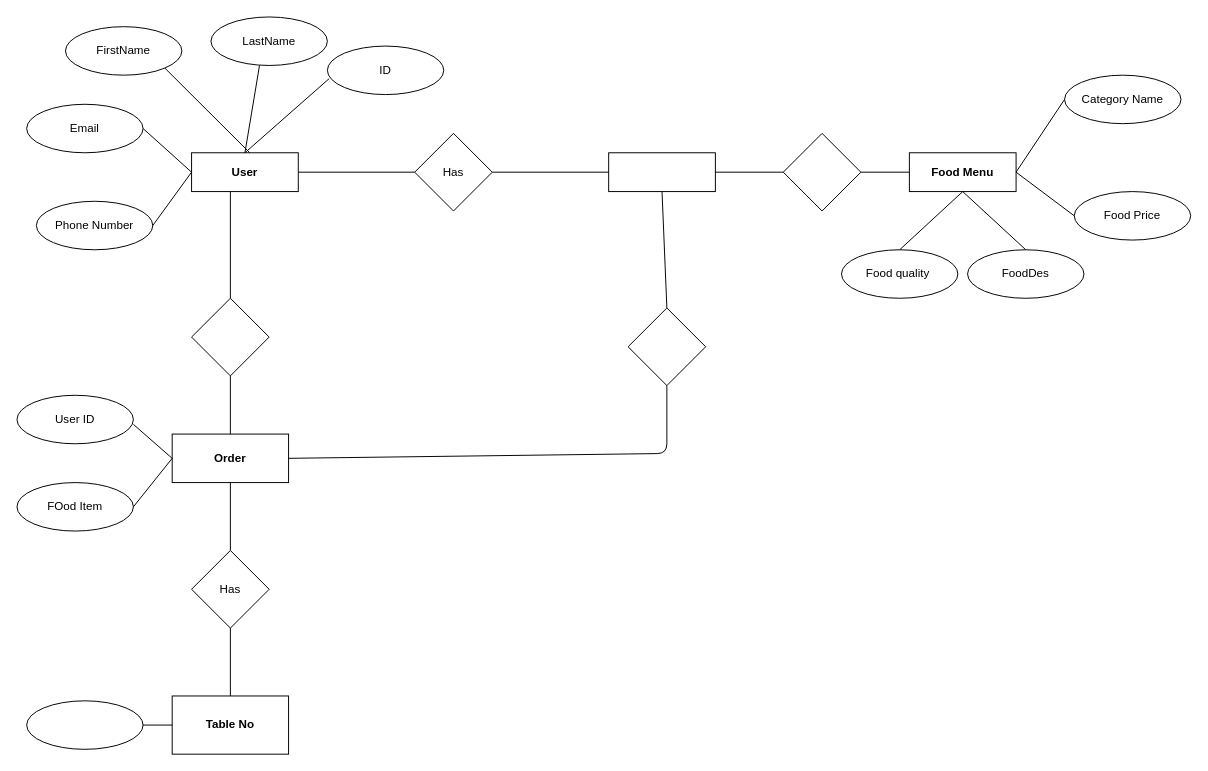
Image size: 1208x771. Some labels were removed from this diagram. Each missing label, with the centre of its shape:
"Admin" goes at point (661, 172).
"Create" goes at point (821, 171).
"Order Number" goes at point (84, 724).
"Place" goes at point (230, 336).
"Update" goes at point (666, 346).
